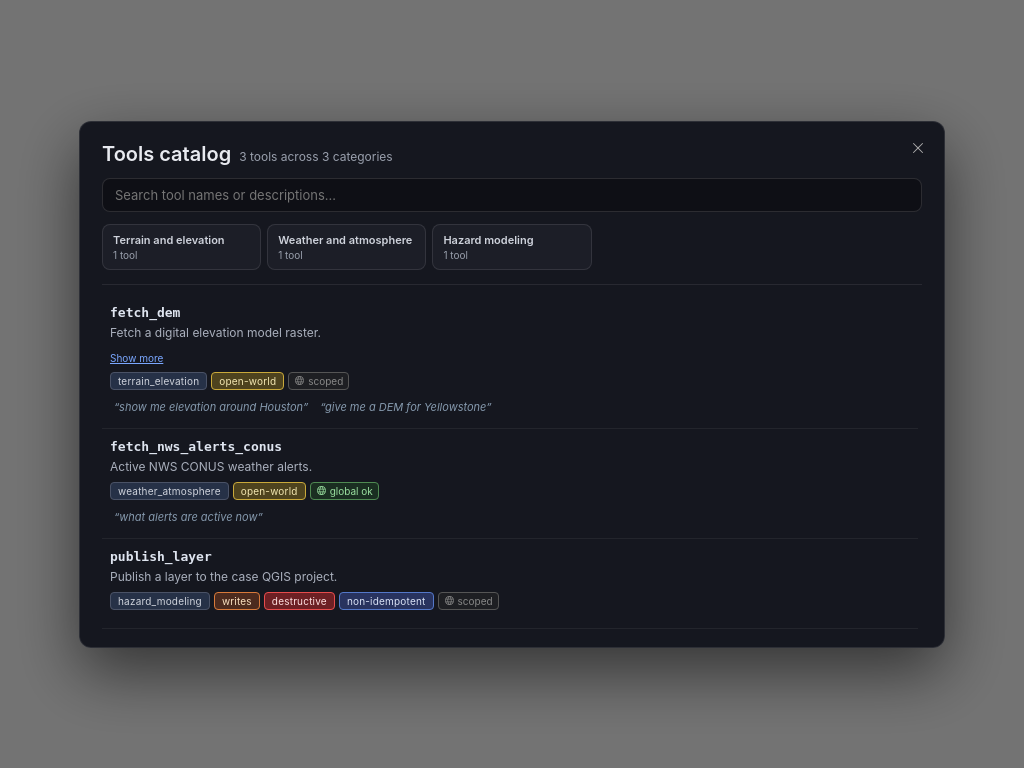
Test: ToolsCatalogPopup › Show more / Show less toggles the full description
Click the button with test id "grace2-tools-catalog-expand-fetch_dem" at (137, 358), box [110, 352, 163, 364]
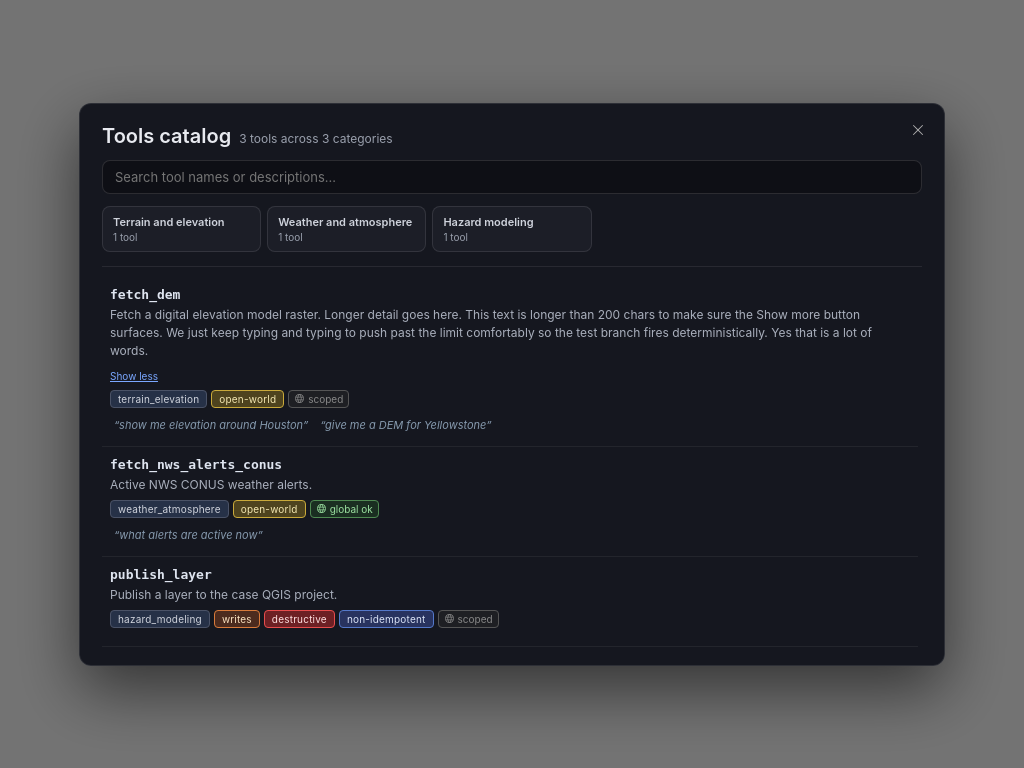
Result: the button with test id "grace2-tools-catalog-expand-fetch_dem" reads "Show less" at [110, 370, 158, 382]
